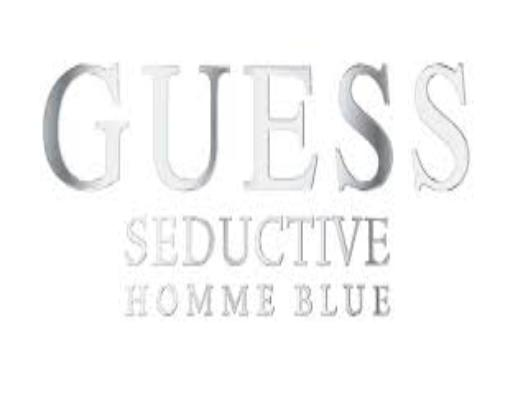GUESS: (41, 55, 473, 198)
